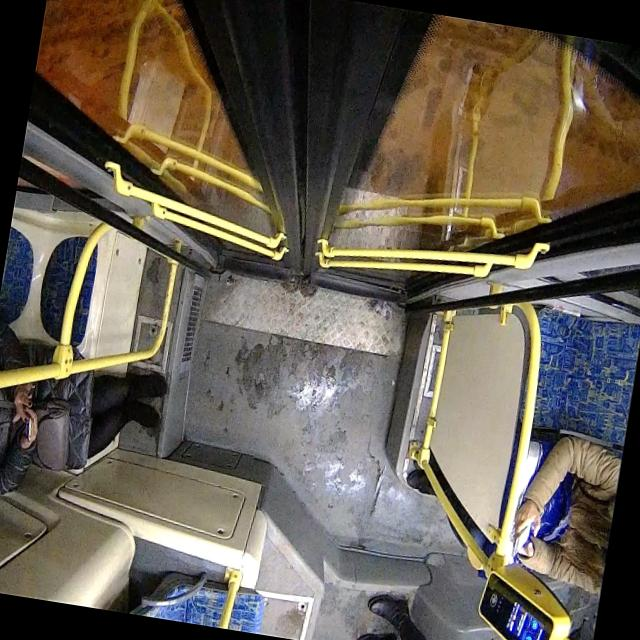bus-door: (28, 0, 640, 301)
